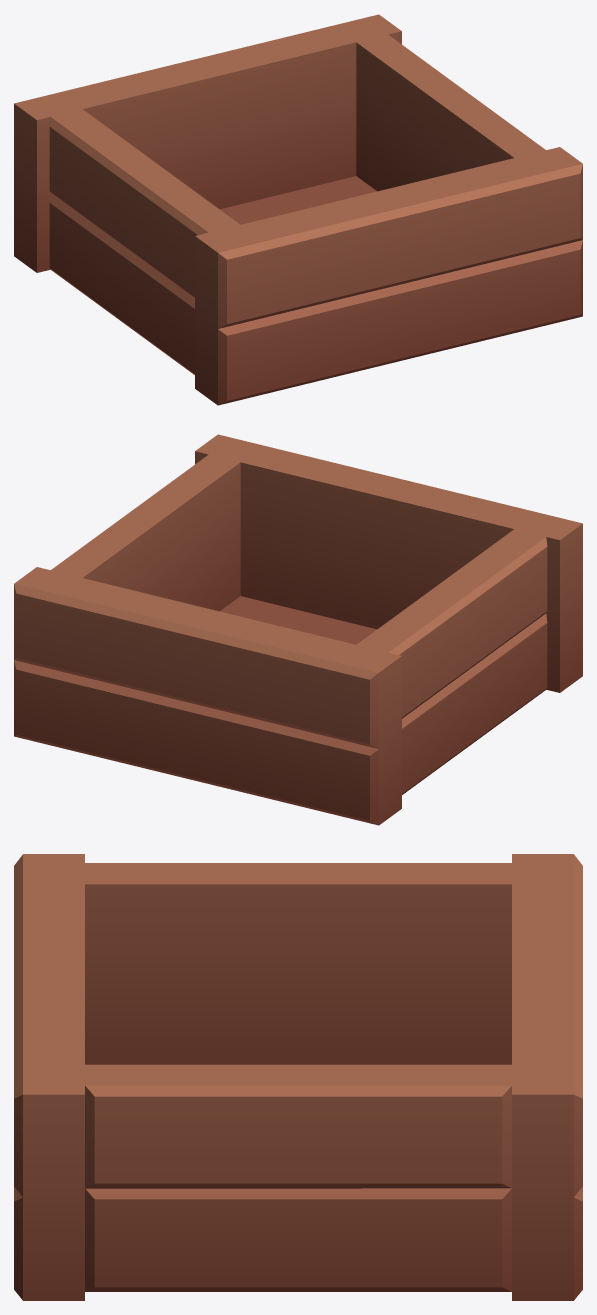
Rendered from food_spawn.glb.
3 renders of one model, top to bottom at view 1: azimuth 30°, elevation 25°; view 2: azimuth 150°, elevation 25°; view 3: azimuth 270°, elevation 25°, orthographic. The views are drawn at different scales.
Visible parts, largest first — view 1: crate; view 2: crate; view 3: crate.
Boxes of the visible parts, x1,y1,x2,y2 form: crate: (14,14,582,405); crate: (14,434,582,825); crate: (14,854,582,1300).
Size of the model in its own units: 2 by 0.8 by 2.
Materials: 1 (1 with a texture image).
